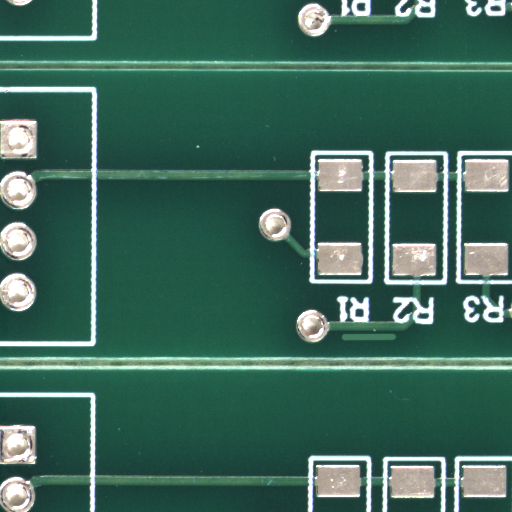Spurious_copper: (368, 336, 427, 347)
